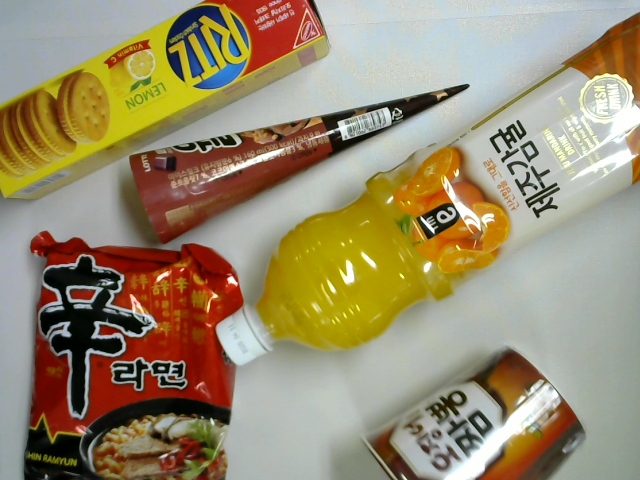GooGoo_Cone_CVS: (214, 1, 640, 369)
Jeju_Tangerine_1.5L: (214, 227, 387, 370)
Ojjam: (357, 344, 587, 480)
Ritz_Remon_96g: (1, 1, 333, 203)
Sinramen: (26, 229, 244, 480)
